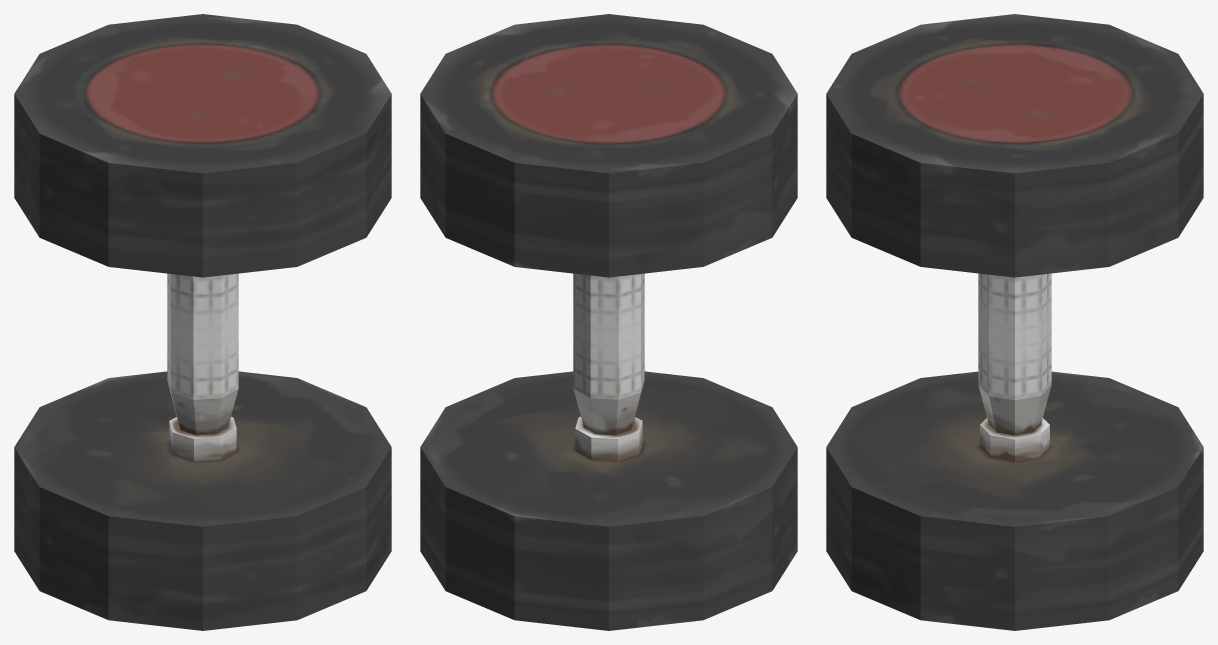
File: P_Ingredient_00211.obj
3 renders of one model, left to right at view 1: azimuth 30°, elevation 25°; view 2: azimuth 150°, elevation 25°; view 3: azimuth 270°, elevation 25°, orthographic.
Bounding box in the file's own units: 0.2985 × 0.3993 × 0.2985.
1 material, 1 textured.
